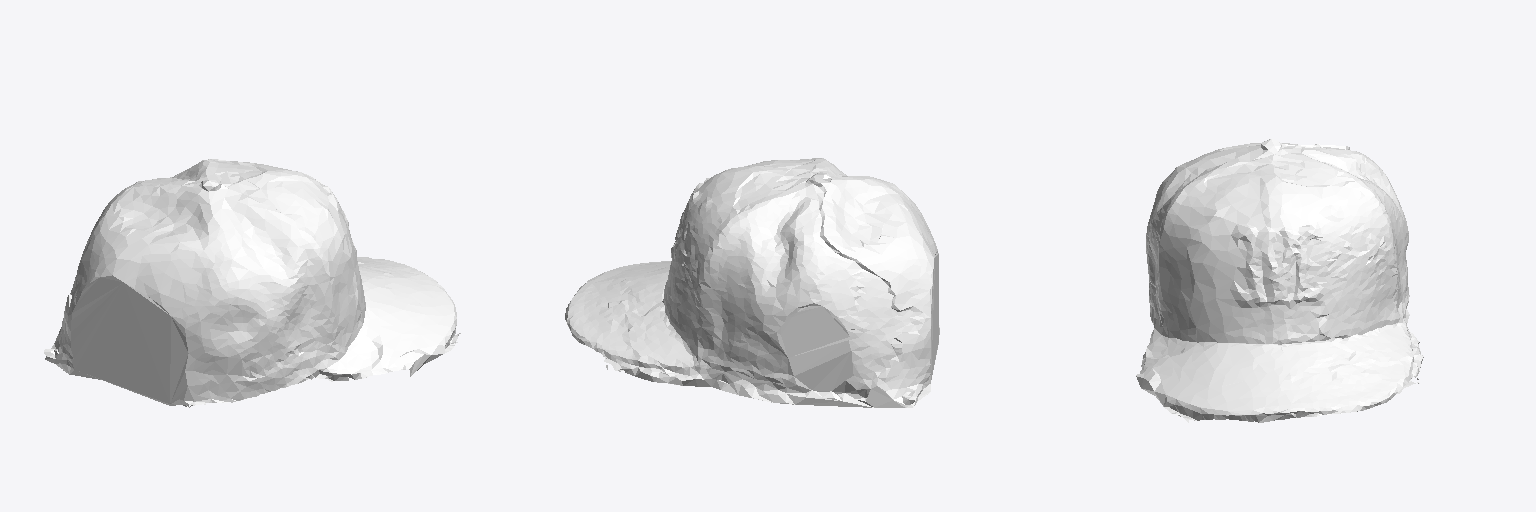
File: smooth_hat.obj
The picture shows the model from 3 angles: view 1: azimuth 30°, elevation 25°; view 2: azimuth 150°, elevation 25°; view 3: azimuth 270°, elevation 25°; orthographic projection.
Parts seen in each view (by area): view 1: red_hat; view 2: red_hat; view 3: red_hat.
Part boxes in pixels (x1,y1,x2,y2): red_hat: (44, 159, 460, 407); red_hat: (565, 158, 939, 407); red_hat: (1136, 139, 1423, 422).
Size of the model in its own units: 38.16 by 18.52 by 26.45.